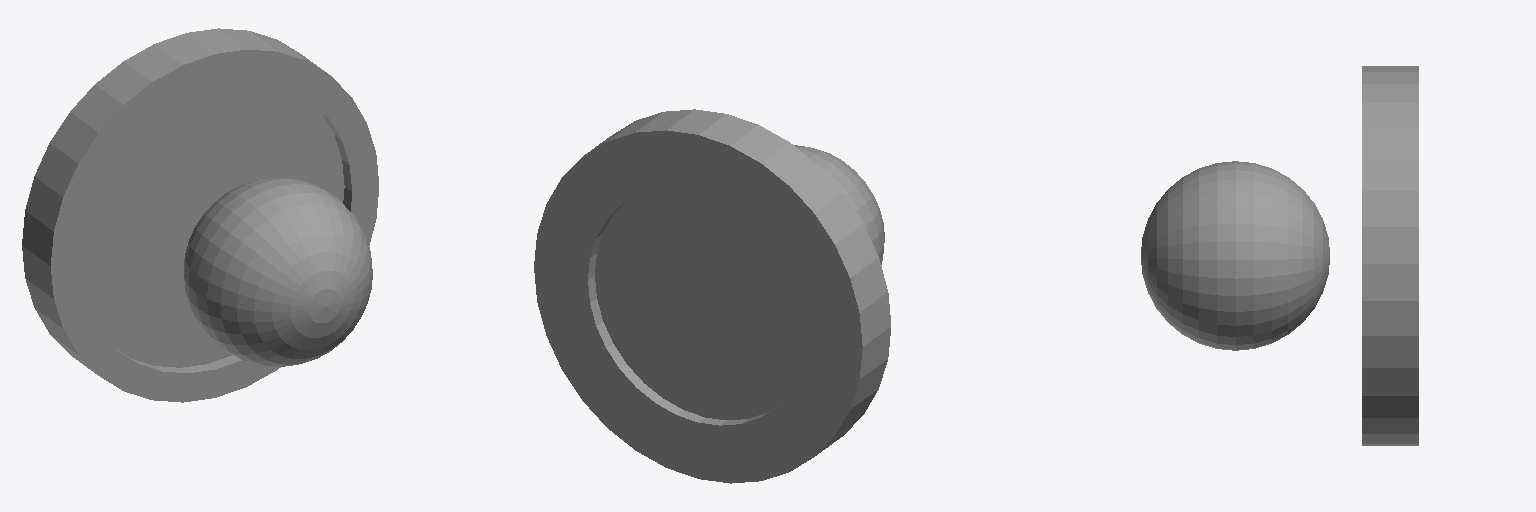
Rendered from maillet.obj.
3 views of the same model, side by side, from view 1: azimuth 30°, elevation 25°; view 2: azimuth 150°, elevation 25°; view 3: azimuth 270°, elevation 25° (orthographic).
Parts seen in each view (by area): view 1: Mesh_Cylinder_Cylinder__Un; view 2: Mesh_Cylinder_Cylinder__Un; view 3: Mesh_Cylinder_Cylinder__Un.
Part boxes in pixels (left/top/right/bottom): Mesh_Cylinder_Cylinder__Un: left=22, top=28, right=378, bottom=402; Mesh_Cylinder_Cylinder__Un: left=534, top=109, right=890, bottom=483; Mesh_Cylinder_Cylinder__Un: left=1141, top=66, right=1418, bottom=445.
Bounding box in the file's own units: 20.44 × 20.44 × 15.01.